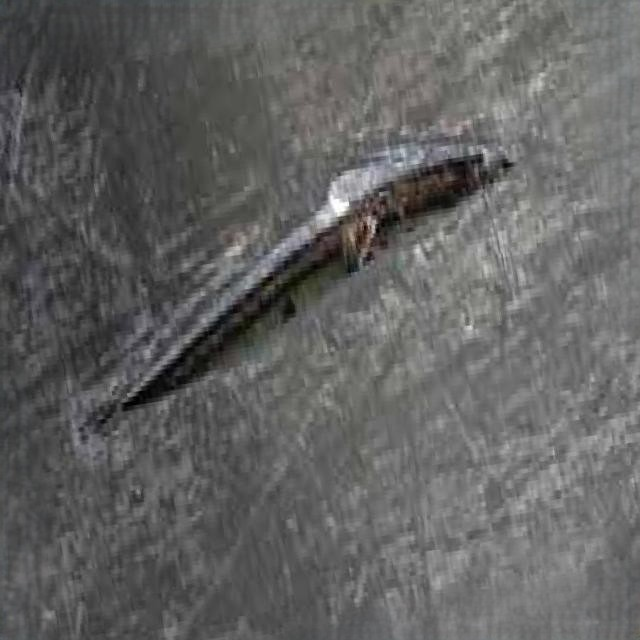Tear: (81, 125, 522, 449)
